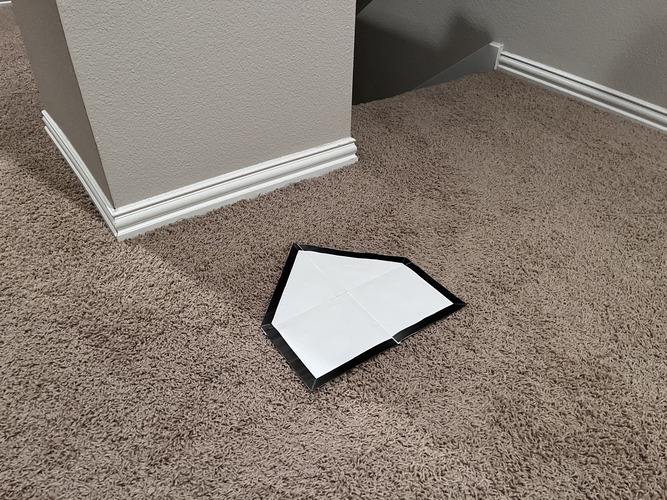homeplate: (257, 241, 468, 395)
